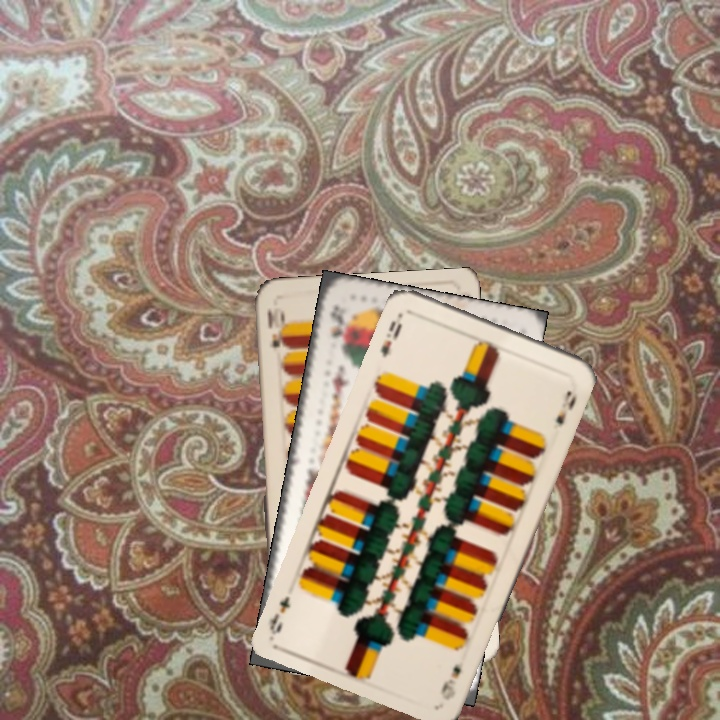E10: (263, 304, 289, 350)
E9: (376, 316, 405, 360), (436, 659, 464, 703)
SK: (326, 301, 348, 344)
